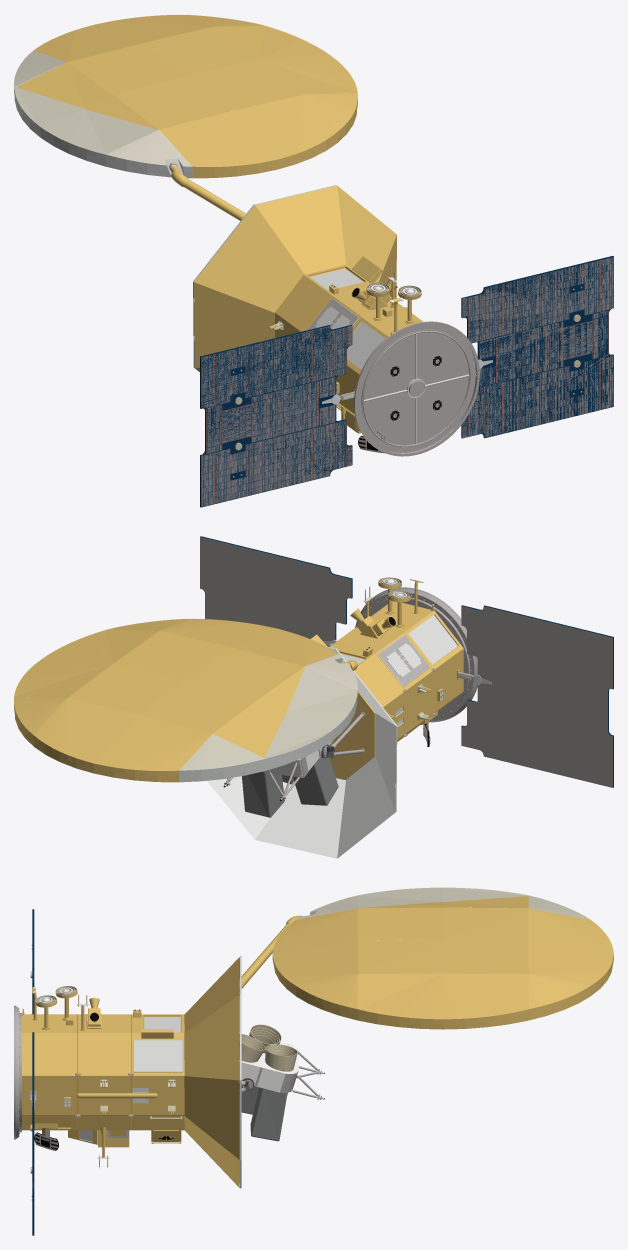
Rendered from aquarius-a.glb.
The picture shows the model from 3 angles, top to bottom: view 1: azimuth 30°, elevation 25°; view 2: azimuth 150°, elevation 25°; view 3: azimuth 270°, elevation 25°; orthographic projection. The views are drawn at different scales.
Parts seen in each view (by area): view 1: Layer_0; view 2: Layer_0; view 3: Layer_0.
Part boxes in pixels (x1,y1,x2,y2): Layer_0: (14,15,613,507); Layer_0: (14,536,613,858); Layer_0: (14,887,613,1235).
Bounding box in the file's own units: 7.86 × 4.54 × 10.66.
Materials: 3 (3 with a texture image).
